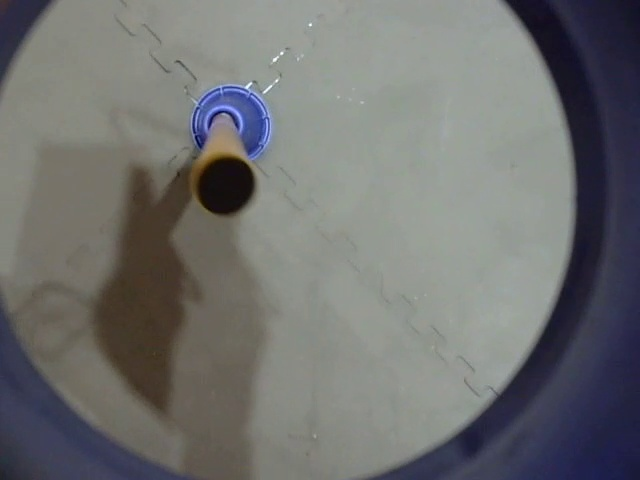tip: (182, 144, 261, 216)
